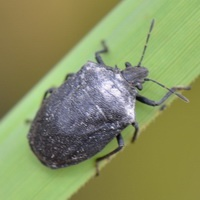insect: (28, 19, 190, 174), (136, 80, 168, 101)
